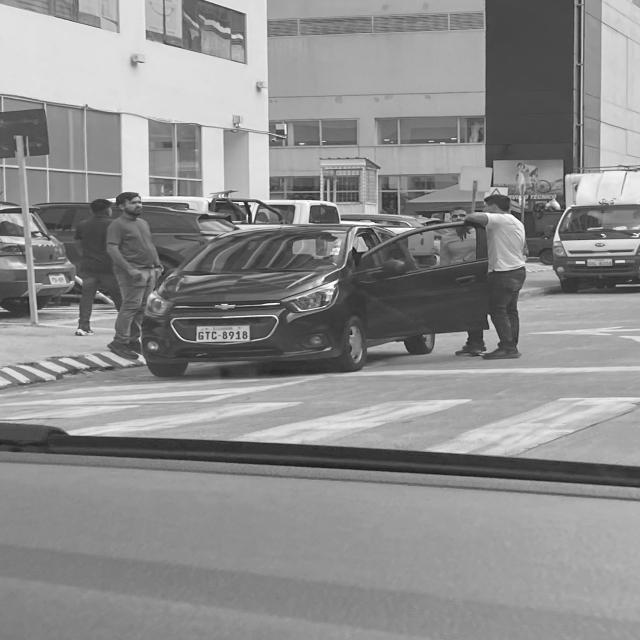Placa: (196, 326, 250, 343), (49, 274, 67, 284), (588, 259, 612, 266)
